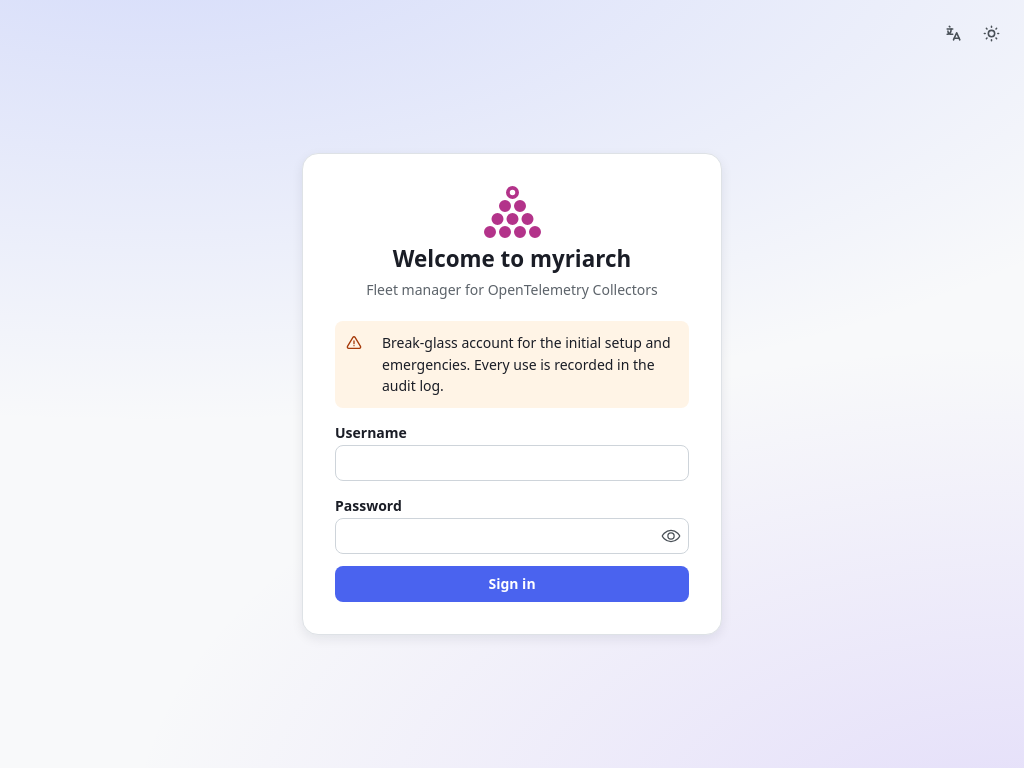
Test case: login page: bootstrap admin › validates required fields before sending
The image size is (1024, 768).
Click the button "Sign in".
click(512, 584)  # box 335,566 -> 689,602
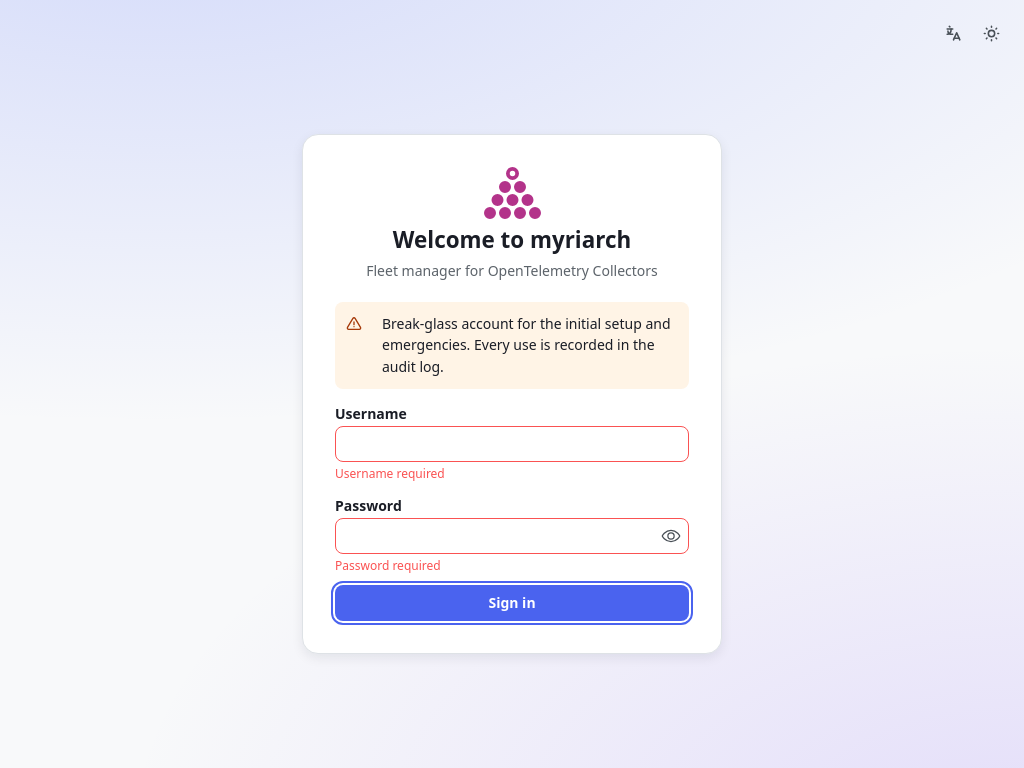
Check: the text "Username required" is shown, box 335,464 -> 445,482
Check: the text "Password required" is shown, box 335,557 -> 441,574
